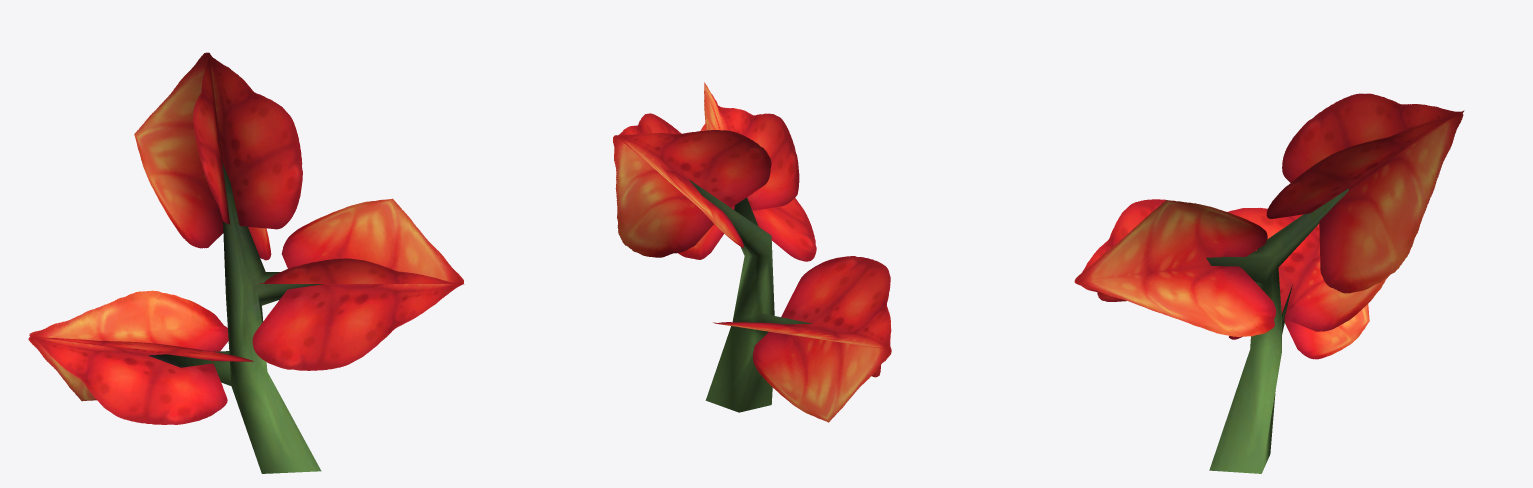
The model's file is silvermoonflower04.obj.
3 renders of one model, left to right at view 1: azimuth 30°, elevation 25°; view 2: azimuth 150°, elevation 25°; view 3: azimuth 270°, elevation 25°, orthographic. The views are drawn at different scales.
Parts seen in each view (by area): view 1: silvermoonflower04; view 2: silvermoonflower04; view 3: silvermoonflower04.
Part boxes in pixels (x1,y1,x2,y2): silvermoonflower04: (28,52,464,473); silvermoonflower04: (613,82,891,422); silvermoonflower04: (1074,93,1464,473).
Bounding box in the file's own units: 1.21 × 1.05 × 1.17.
